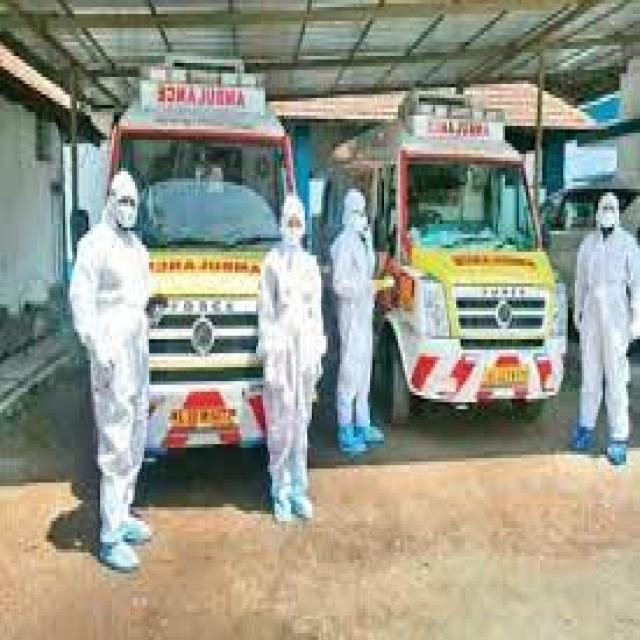ambulance: (324, 89, 586, 446), (108, 58, 317, 503)
